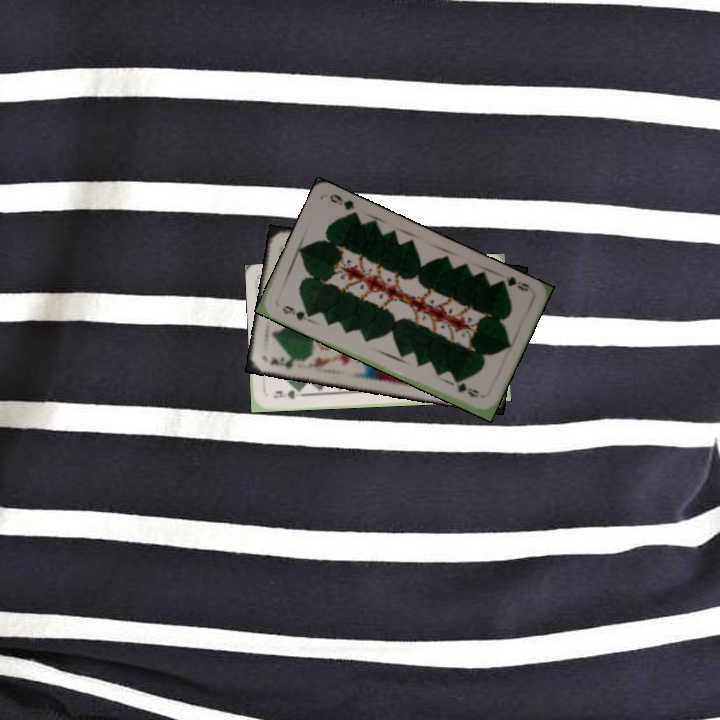G9: (493, 272, 532, 294), (278, 301, 314, 324), (270, 386, 306, 402)
GK: (267, 354, 304, 372)
